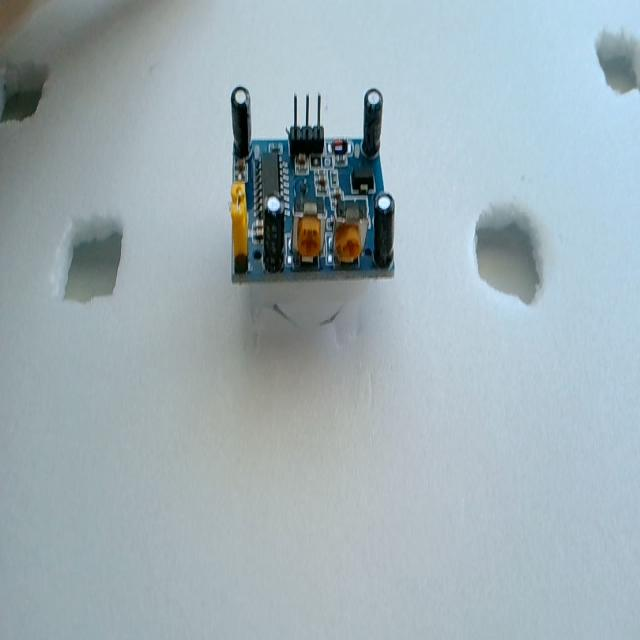Electrolytic capacitor: (230, 86, 252, 161), (374, 192, 395, 268), (264, 196, 285, 270), (362, 88, 383, 160)
pinheader: (287, 88, 328, 163)
